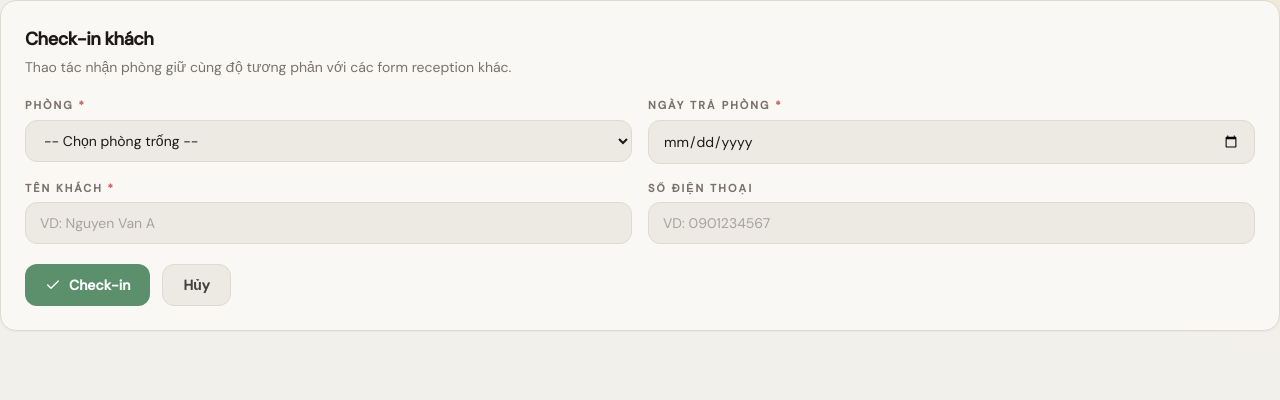
Test: CheckInForm › shows validation errors when submitting empty form
Step 1. Click the button "Check-in" → (88, 285), box [25,264,150,306]
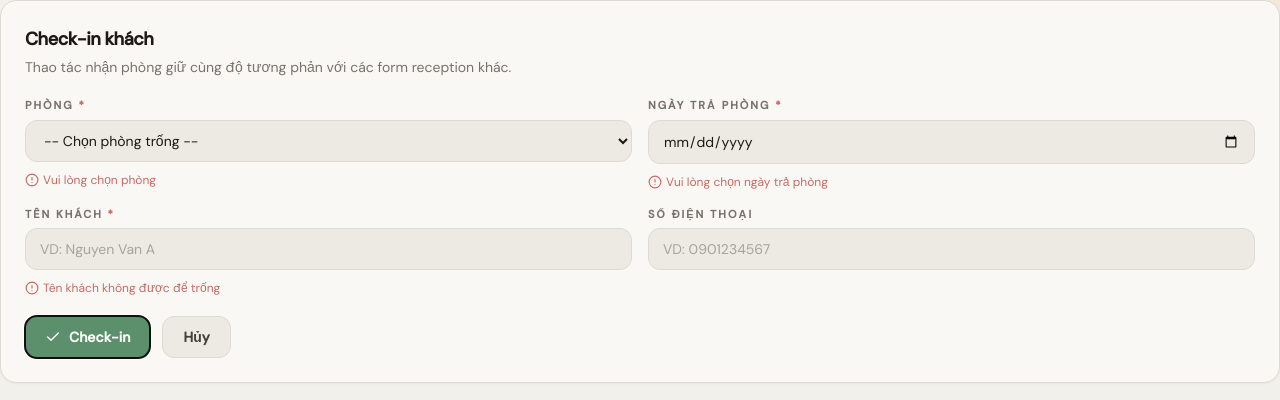
Expected: the text "Vui lòng chọn phòng" is shown, [25,172,156,188]
Expected: the text "Vui lòng chọn ngày trả phòng" is shown, [648,174,828,190]
Expected: the text "Tên khách không được để trống" is shown, [25,280,220,296]
